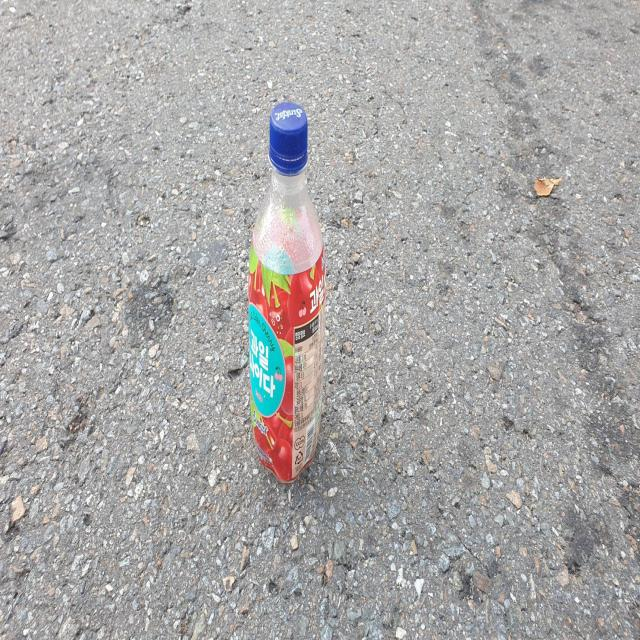plastic: (248, 100, 326, 481)
